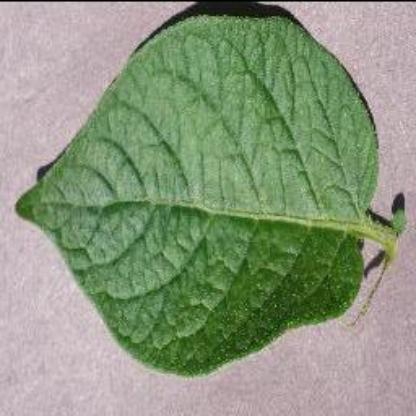Healthy-plant: (17, 13, 383, 380)
